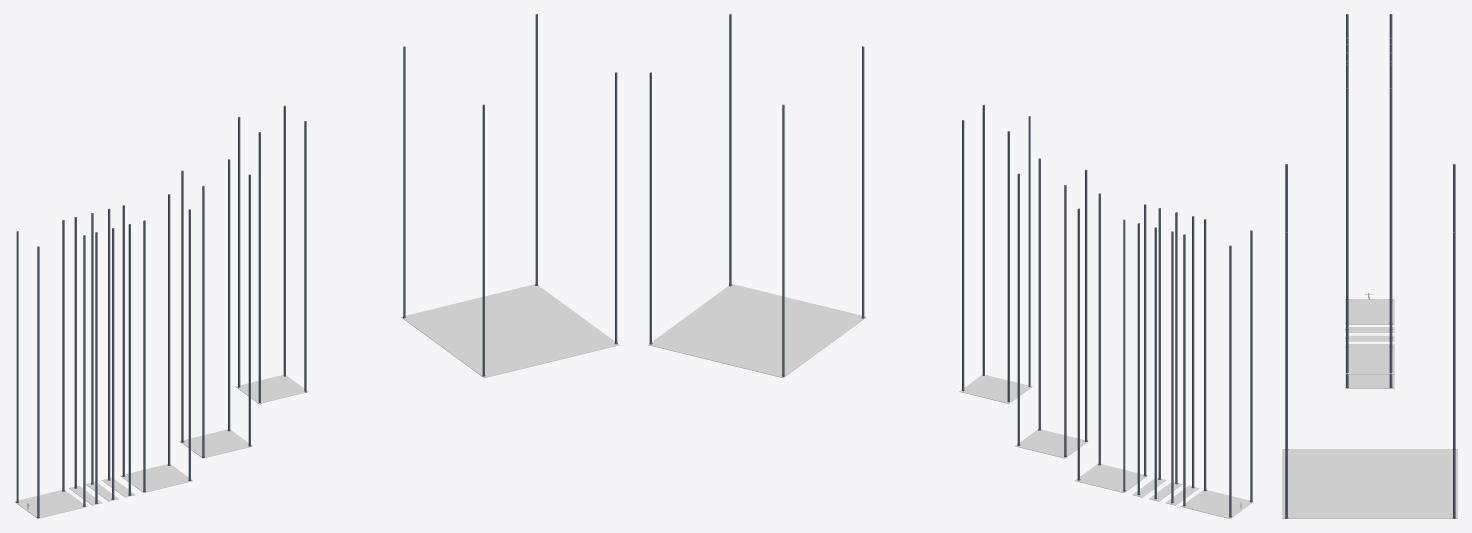
File: Level-1.fbx
The picture shows the model from 3 angles, left to right: view 1: azimuth 30°, elevation 25°; view 2: azimuth 150°, elevation 25°; view 3: azimuth 270°, elevation 25°; orthographic projection. The views are drawn at different scales.
Visible parts, largest first — view 1: Cube.007, Cube, Cube.004, Cube.003, Cube.005, Cylinder.023, Cylinder.007, Cylinder.008, Cylinder.015, Cylinder.016, Cylinder.017, Cylinder.022 (+20 smaller); view 2: Cube.007, Cube, Cube.004, Cube.003, Cube.005, Cylinder.010, Cylinder.011, Cylinder.003, Cylinder.012, Cylinder.017, Cylinder.001, Cylinder.002 (+20 smaller); view 3: Cube.007, Cube.005, Cube, Cylinder.021, Cylinder.024, Cylinder.025, Cylinder.020, Cube.002, Cube.004.
Part boxes in pixels (box(x1,y1,x2,y2)): Cube.007: box(401, 284, 619, 378); Cube: box(14, 490, 87, 518); Cube.004: box(179, 429, 252, 458); Cube.003: box(120, 464, 192, 492); Cube.005: box(235, 375, 308, 403); Cylinder.023: box(402, 46, 405, 318); Cylinder.007: box(107, 208, 110, 480); Cylinder.008: box(143, 220, 146, 492); Cylinder.015: box(181, 170, 184, 442); Cylinder.016: box(248, 174, 251, 446); Cylinder.017: box(227, 159, 230, 431); Cylinder.022: box(482, 104, 485, 376); Cube.007: box(648, 284, 866, 377); Cube: box(1181, 490, 1253, 518); Cube.004: box(1015, 429, 1088, 458); Cube.003: box(1075, 464, 1147, 492); Cube.005: box(959, 375, 1032, 403); Cylinder.010: box(1249, 230, 1252, 502); Cylinder.011: box(1229, 245, 1232, 517); Cylinder.003: box(1170, 231, 1173, 503); Cylinder.012: box(1098, 193, 1101, 465); Cylinder.017: box(1017, 173, 1020, 445); Cylinder.001: box(1183, 234, 1185, 506); Cylinder.002: box(1191, 216, 1194, 488); Cube.007: box(1282, 449, 1457, 518); Cube.005: box(1345, 348, 1394, 374); Cube: box(1345, 299, 1394, 324); Cylinder.021: box(1389, 88, 1392, 374); Cylinder.024: box(1285, 232, 1288, 518); Cylinder.025: box(1452, 232, 1455, 518); Cylinder.020: box(1346, 88, 1348, 374); Cube.002: box(1345, 327, 1394, 348); Cube.004: box(1345, 374, 1394, 388).
Bounding box in the file's own units: 51094 × 29375 × 13366.
